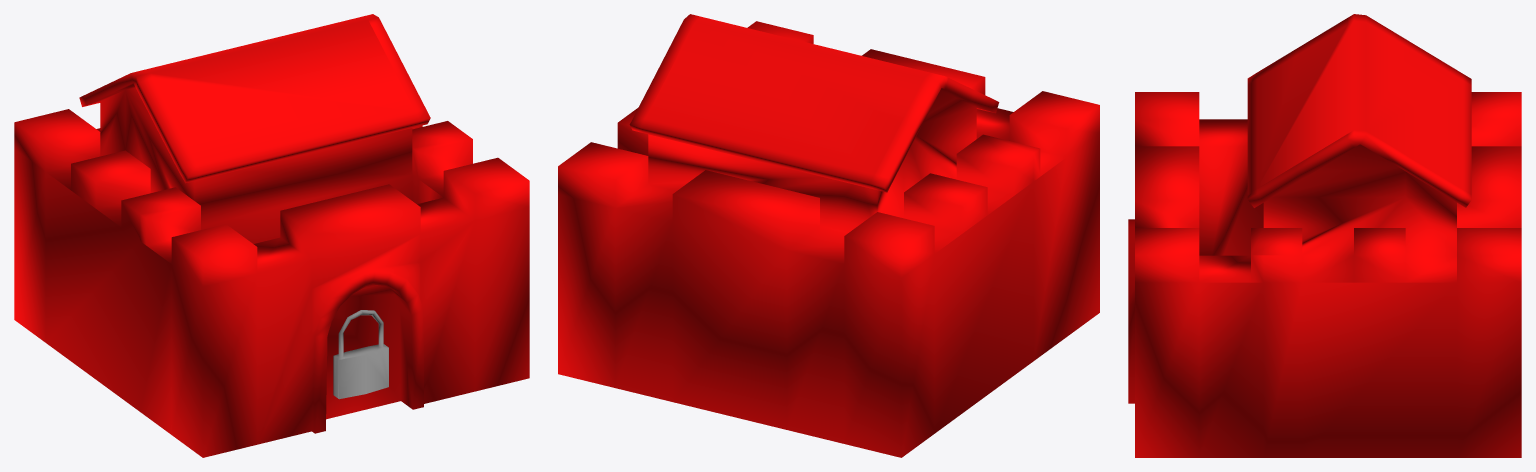
The model's file is vault.fbx.
The picture shows the model from 3 angles, left to right: view 1: azimuth 30°, elevation 25°; view 2: azimuth 150°, elevation 25°; view 3: azimuth 270°, elevation 25°; orthographic projection. The views are drawn at different scales.
Visible parts, largest first — view 1: Polygon, Lock; view 2: Polygon; view 3: Polygon.
Part boxes in pixels (x1=…): Polygon: x1=14, y1=14, x2=529, y2=457; Lock: x1=333, y1=310, x2=388, y2=399; Polygon: x1=558, y1=14, x2=1099, y2=457; Polygon: x1=1128, y1=14, x2=1521, y2=457.
Bounding box in the file's own units: 600 × 515 × 610.
